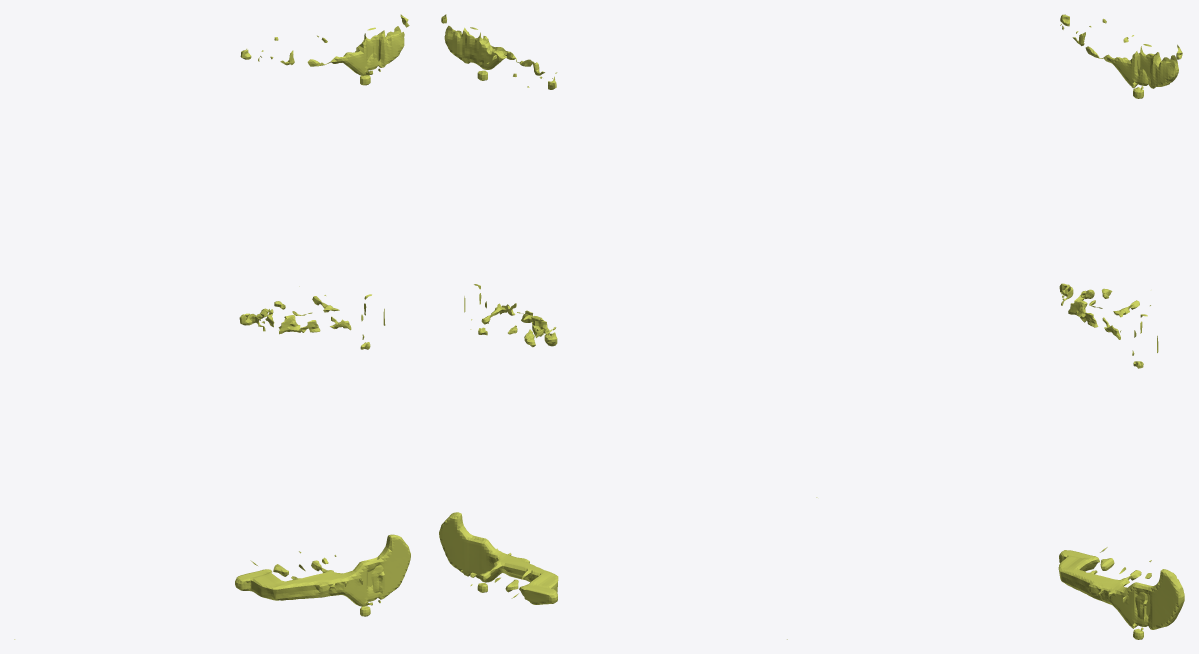
The model's file is guitar_01.glb.
The picture shows the model from 3 angles, left to right: view 1: azimuth 30°, elevation 25°; view 2: azimuth 150°, elevation 25°; view 3: azimuth 330°, elevation 25°; orthographic projection. The views are drawn at different scales.
Visible parts, largest first — view 1: world; view 2: world; view 3: world.
Boxes of the visible parts, x1=… form: world: x1=14, y1=14, x2=410, y2=639; world: x1=439, y1=14, x2=787, y2=639; world: x1=816, y1=14, x2=1184, y2=639.
Bounding box in the file's own units: 0.5846 × 0.8746 × 0.1313.
